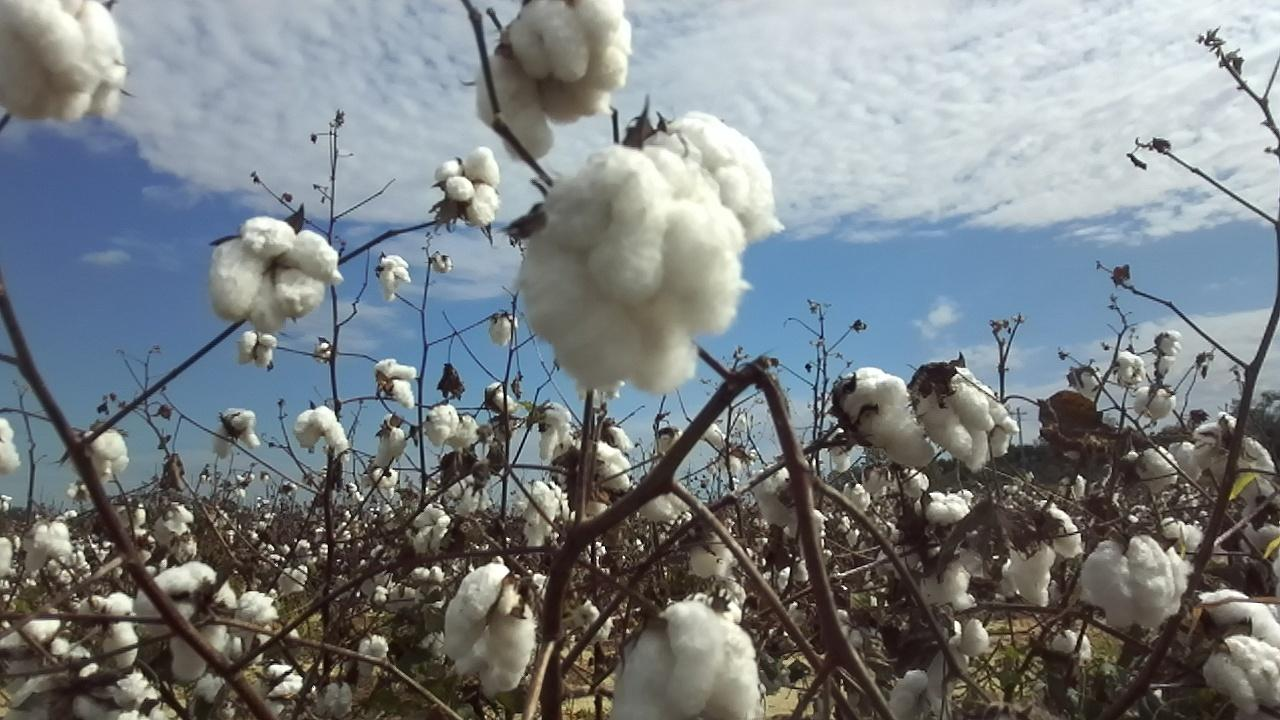cotton_ready: (513, 146, 752, 395), (479, 0, 633, 165), (639, 110, 785, 244), (607, 600, 764, 720), (0, 0, 132, 127), (208, 215, 347, 334), (441, 562, 540, 694), (1078, 535, 1195, 632), (137, 563, 232, 682), (1195, 589, 1280, 718), (921, 369, 1022, 472), (840, 369, 939, 469), (992, 495, 1079, 605), (1194, 414, 1280, 489), (5, 667, 120, 720), (754, 465, 825, 544), (435, 146, 502, 229), (582, 425, 634, 522), (79, 591, 140, 672), (918, 559, 977, 612), (79, 429, 132, 479), (24, 521, 74, 574), (918, 491, 975, 525)
